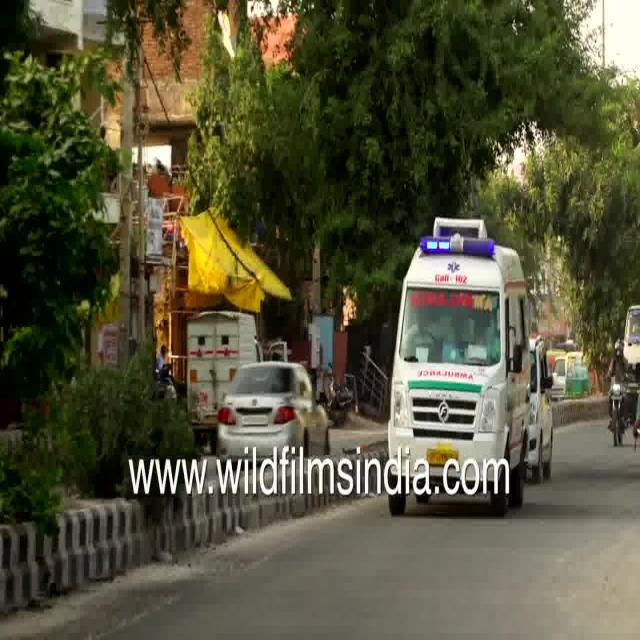ambulance: (390, 208, 537, 452)
